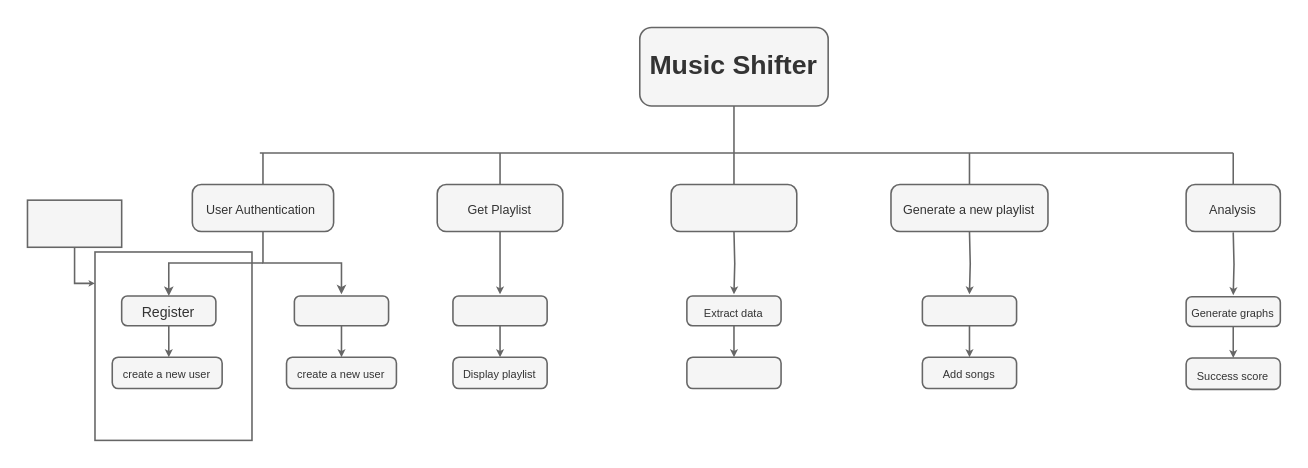
This 1308x468 diagram has some shape labels left out. The centre of each missing label's shape, as x and y in pixels:
create playlist: the point at 969,310
fetch playlist: the point at 499,310
If not logged in: the point at 74,223
Login: the point at 341,310
Search and match: the point at 733,372
Track Processing: the point at 733,207
